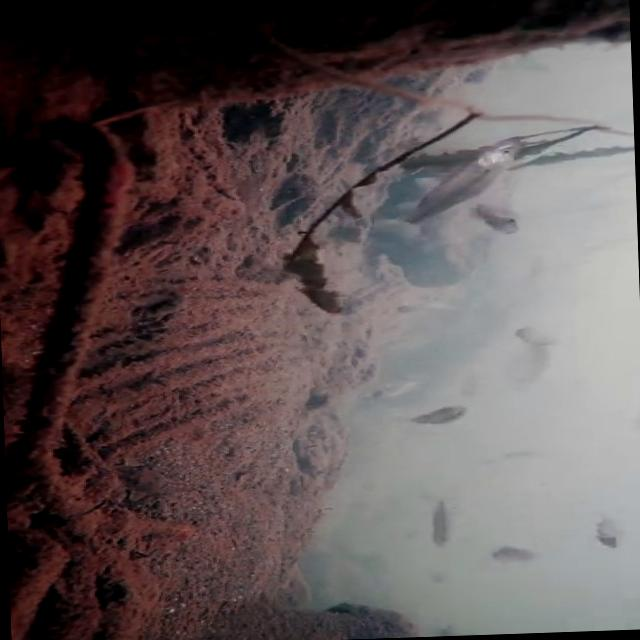Cakil Baligi: (400, 137, 526, 221), (422, 496, 462, 549), (408, 398, 473, 426)
